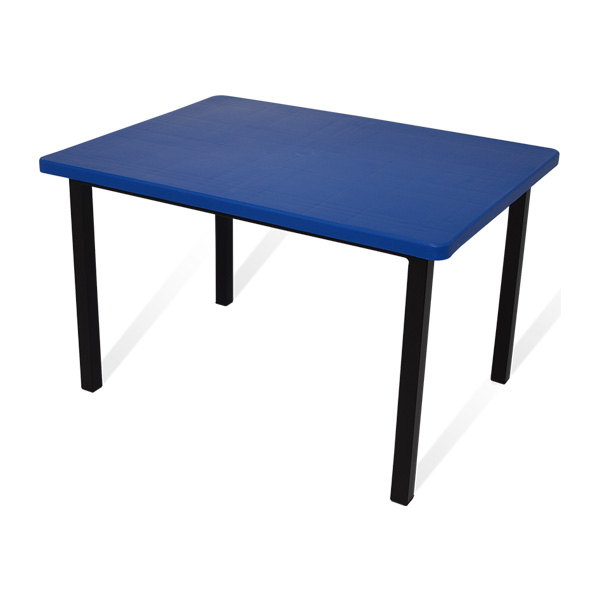m01: (39, 95, 559, 505)
